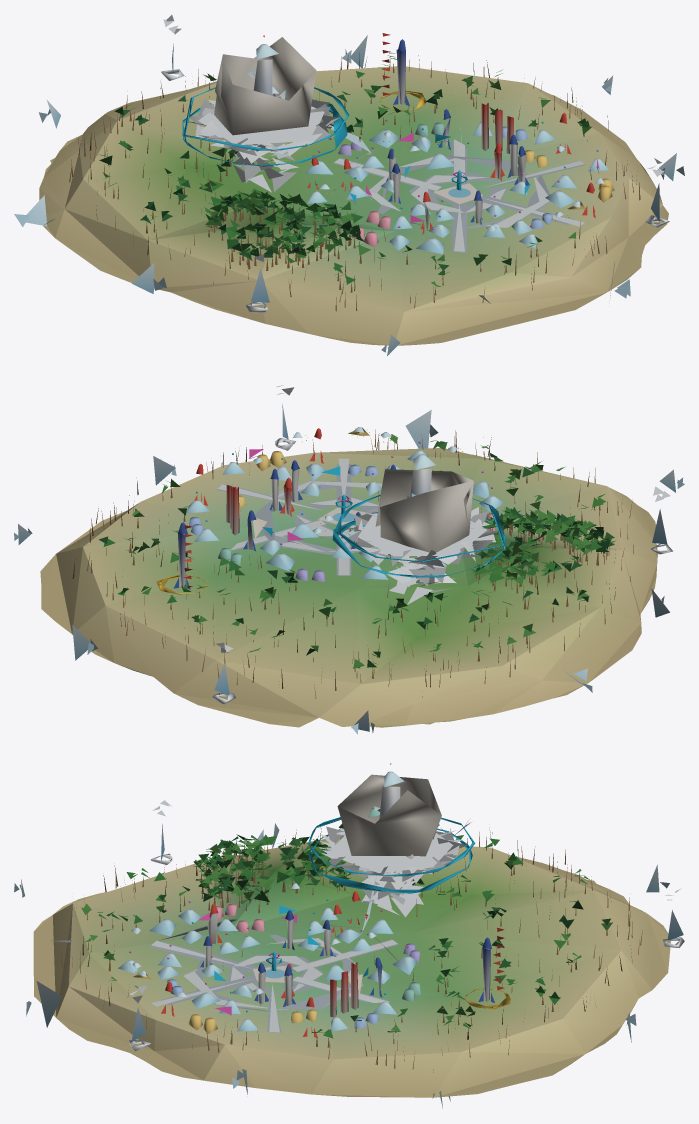
3 views of the same model, one above another, from view 1: azimuth 30°, elevation 25°; view 2: azimuth 150°, elevation 25°; view 3: azimuth 270°, elevation 25° (orthographic). The views are drawn at different scales.
Visible parts, largest first — view 1: BASE, VILLE_3, VILLE_2, VILLE_4; view 2: BASE, VILLE_3, VILLE_2, VILLE_4; view 3: BASE, VILLE_3, VILLE_2, VILLE_4.
Boxes of the visible parts, box(x1,y1,x2,y2) form: BASE: box(14, 15, 684, 355); VILLE_3: box(305, 109, 614, 254); VILLE_2: box(344, 128, 576, 237); VILLE_4: box(380, 33, 426, 111); BASE: box(14, 385, 684, 734); VILLE_3: box(186, 427, 504, 581); VILLE_2: box(239, 453, 440, 561); VILLE_4: box(156, 522, 206, 594); BASE: box(14, 763, 684, 1108); VILLE_3: box(118, 883, 420, 1038); VILLE_2: box(157, 903, 391, 1023); VILLE_4: box(465, 927, 510, 1009).
Bounding box in the file's own units: 68.53 × 20.92 × 69.31.
